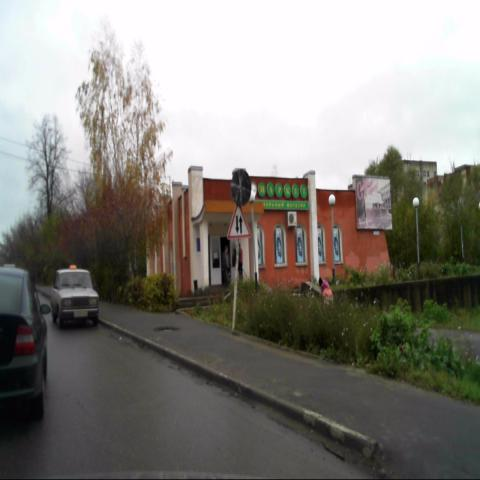1_21: (227, 202, 252, 241)
